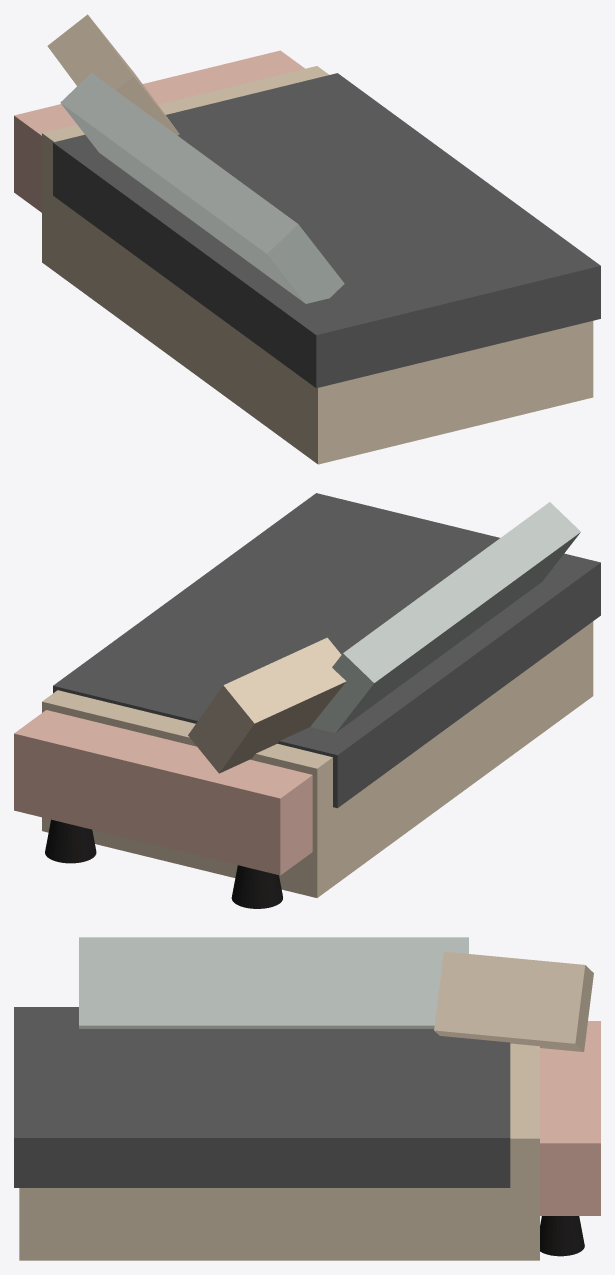
The model's file is Lee_Bed.fbx.
The picture shows the model from 3 angles, top to bottom: view 1: azimuth 30°, elevation 25°; view 2: azimuth 150°, elevation 25°; view 3: azimuth 270°, elevation 25°; orthographic projection. The views are drawn at different scales.
Parts seen in each view (by area): view 1: Mattress.001; view 2: Mattress.001; view 3: Mattress.001.
Part boxes in pixels (left/top/right/bottom): Mattress.001: left=14, top=14, right=600, bottom=464; Mattress.001: left=14, top=493, right=600, bottom=908; Mattress.001: left=14, top=937, right=600, bottom=1260.
Bounding box in the file's own units: 983 × 685 × 1772.
